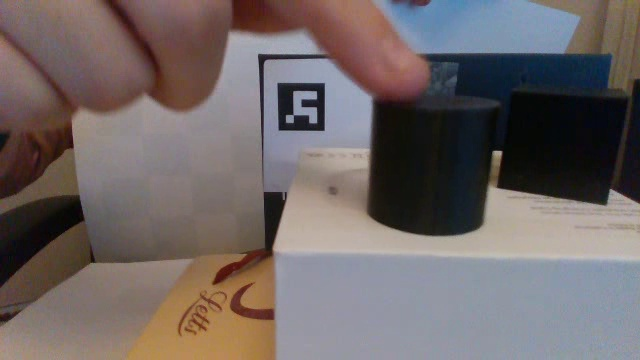cube: (494, 72, 634, 208)
cylindre: (361, 89, 502, 240)
